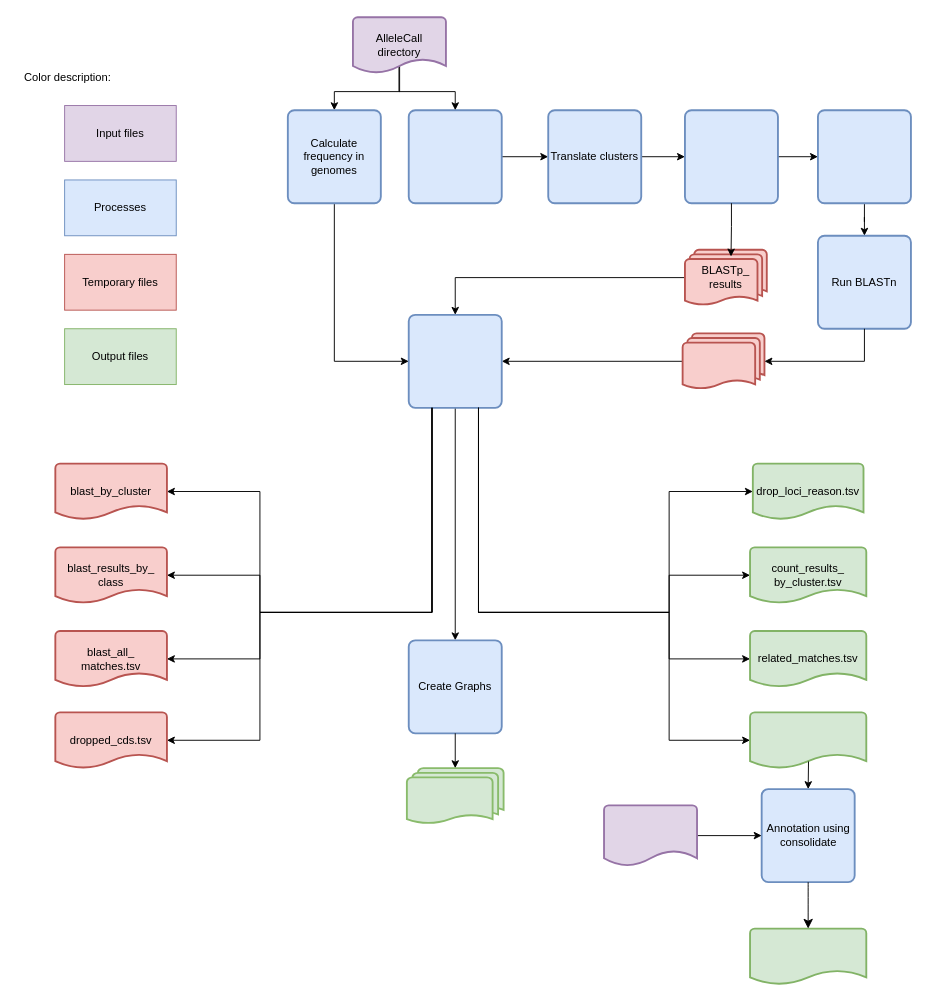
Some shapes in this 927 by 1001 pixel diagram are drawn without their labels. Here are the shapes that lost their labels. From the top down, the centre of each, then its label:
point (454, 156): Clustering by minimizers
point (731, 156): Run BLASTp
point (864, 156): Select unmatched loci (DNA sequence)
point (454, 360): Process, extract and write results
point (723, 361): BLASTn_ results
point (808, 740): recommendations.tsv
point (454, 795): Graphs folder
point (650, 835): TSV annotation files
point (808, 956): recommendations _annotations.tsv
